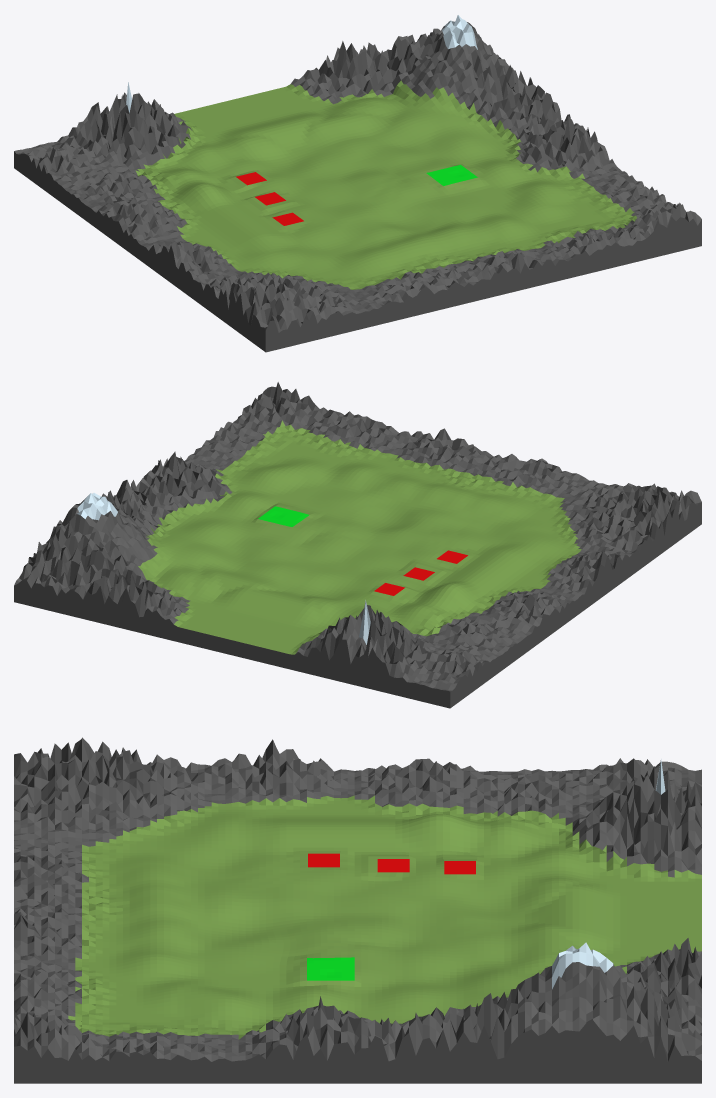
Rendered from Ground.fbx.
3 views of the same model, one above another, from view 1: azimuth 30°, elevation 25°; view 2: azimuth 150°, elevation 25°; view 3: azimuth 270°, elevation 25° (orthographic). The views are drawn at different scales.
Parts seen in each view (by area): view 1: Plane; view 2: Plane; view 3: Plane.
Boxes of the visible parts, x1,y1,x2,y2 form: Plane: (14,15,701,352); Plane: (14,382,701,708); Plane: (14,737,701,1083).
Bounding box in the file's own units: 32500 × 6177 × 32500.
